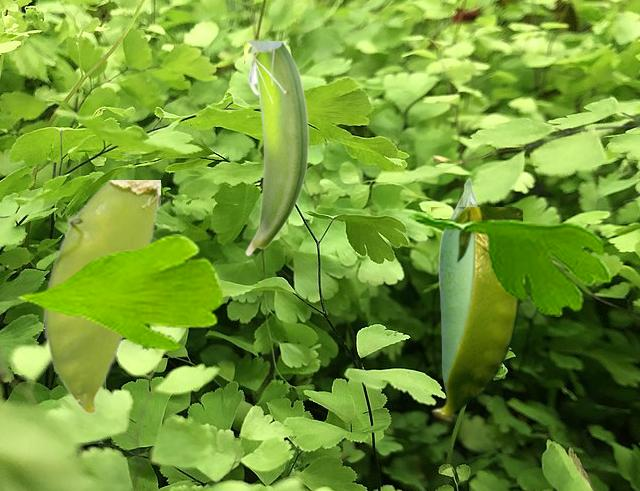pea: (43, 180, 159, 413), (431, 207, 521, 416), (244, 41, 310, 255), (438, 177, 478, 385)
